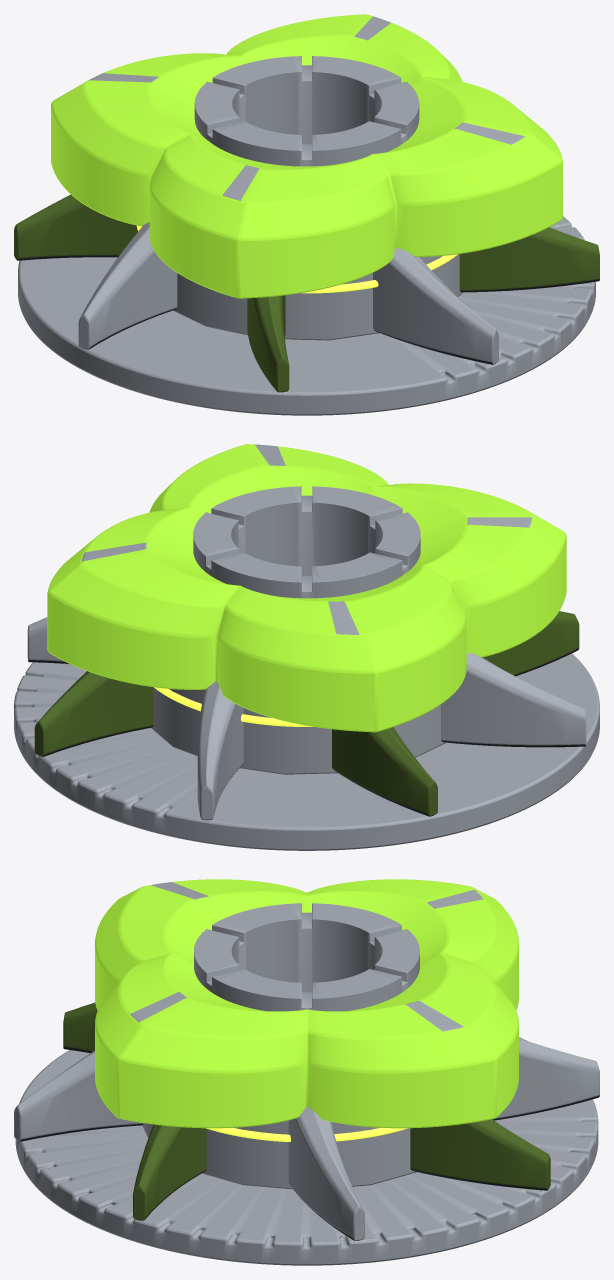
The model's file is kern.glb.
3 views of the same model, one above another, from view 1: azimuth 30°, elevation 25°; view 2: azimuth 150°, elevation 25°; view 3: azimuth 270°, elevation 25° (orthographic).
Visible parts, largest first — view 1: Ratsche.001, Grundplatte.001, Kern.001, Rippe.006, Trommel, Rippe.007, Rippe.004, Rippe.003, Rippe.005, Trommelleuchte; view 2: Ratsche.001, Grundplatte.001, Kern.001, Rippe.004, Trommel, Rippe.001, Rippe.003, Rippe.002, Rippe.005, Rippe, Trommelleuchte; view 3: Ratsche.001, Grundplatte.001, Kern.001, Trommel, Rippe.001, Rippe, Rippe.006, Rippe.002, Rippe.007, Rippe.005, Trommelleuchte.
Boxes of the visible parts, box(x1,y1,x2,y2) form: Ratsche.001: box(51, 14, 562, 298); Grundplatte.001: box(18, 216, 595, 415); Kern.001: box(194, 56, 419, 166); Rippe.006: box(373, 247, 498, 364); Trommel: box(173, 254, 463, 340); Rippe.007: box(459, 227, 599, 292); Rippe.004: box(78, 222, 177, 349); Rippe.003: box(14, 194, 137, 260); Rippe.005: box(247, 295, 289, 392); Trommelleuchte: box(136, 225, 457, 293); Ratsche.001: box(47, 444, 566, 732); Grundplatte.001: box(14, 653, 599, 850); Kern.001: box(193, 486, 420, 598); Rippe.004: box(441, 653, 586, 747); Trommel: box(151, 687, 445, 774); Rippe.001: box(34, 671, 153, 756); Rippe.003: box(332, 727, 437, 816); Rippe.002: box(197, 681, 243, 820); Rippe.005: box(483, 611, 579, 676); Rippe: box(27, 617, 69, 663); Trommelleuchte: box(154, 687, 313, 726); Ratsche.001: box(95, 879, 518, 1128); Grundplatte.001: box(15, 1037, 598, 1265); Kern.001: box(194, 903, 419, 1011); Trommel: box(142, 1120, 416, 1189); Rippe.001: box(410, 1119, 550, 1190); Rippe: box(288, 1106, 364, 1240); Rippe.006: box(14, 1050, 143, 1141); Rippe.002: box(493, 1038, 599, 1120); Rippe.007: box(133, 1124, 206, 1220); Rippe.005: box(63, 1002, 97, 1053); Trommelleuchte: box(206, 1127, 407, 1141).
Size of the model in its own units: 0.3419 by 0.1246 by 0.3419.
